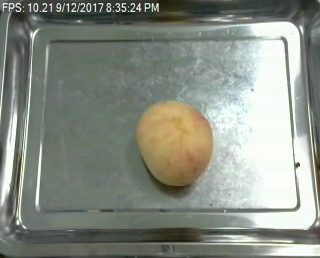Peach: (136, 99, 214, 186)
